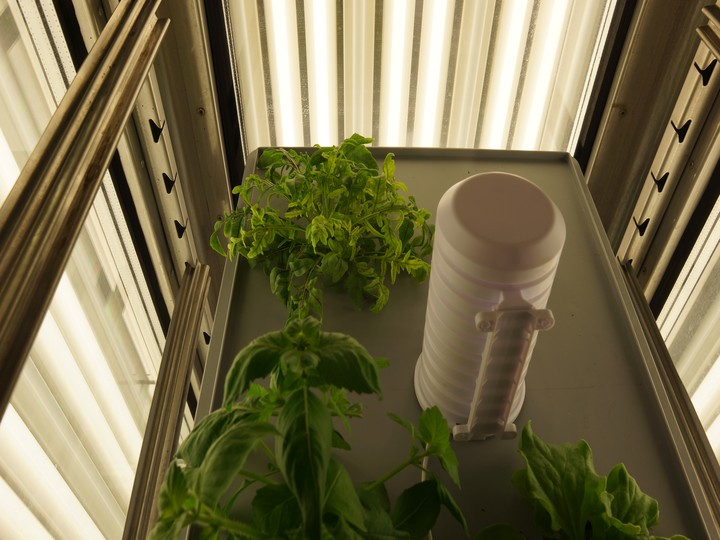basilic_blue_spice: (148, 313, 477, 540)
ficoide_glaciale: (504, 419, 695, 540)
roquette_sauvage_red_veined: (200, 123, 440, 327)
